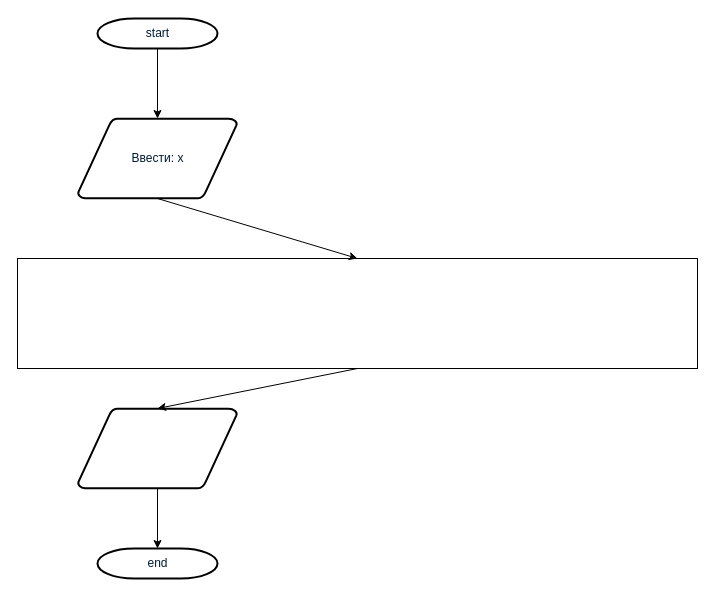
This 715x596 diagram has some shape labels left out. The centre of each missing label's shape, as x and y in pixels:
y=(2*x+1)/(x+1)+(pow(x,2)+sqrt(x))/((2*x+1)*(x+sin(x)));: pixel 357 313
Вивести: y: pixel 157 448
